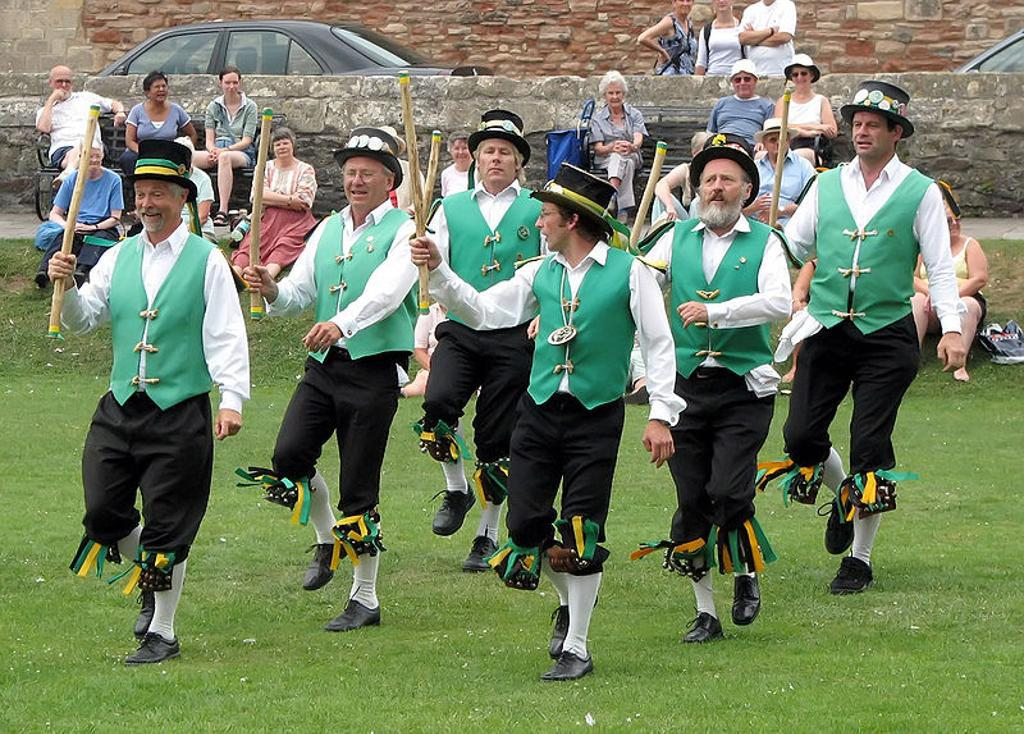face: (135, 176, 181, 232), (702, 161, 744, 214), (342, 158, 383, 207), (852, 109, 892, 157), (535, 196, 570, 250), (480, 140, 515, 182), (52, 70, 73, 99), (941, 208, 960, 238), (734, 70, 756, 95), (765, 131, 787, 156), (793, 63, 811, 88), (223, 74, 241, 98), (453, 140, 470, 165), (274, 137, 293, 159), (86, 149, 104, 172), (151, 80, 168, 103), (607, 86, 623, 108), (677, 1, 693, 16), (717, 1, 731, 12)
